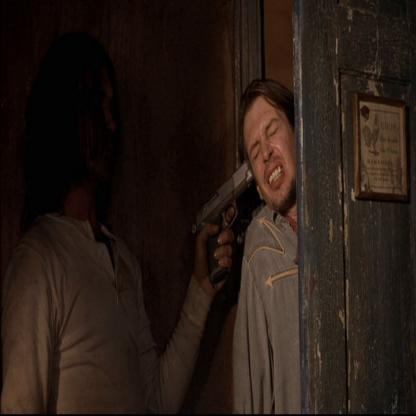gun: (188, 159, 253, 299)
